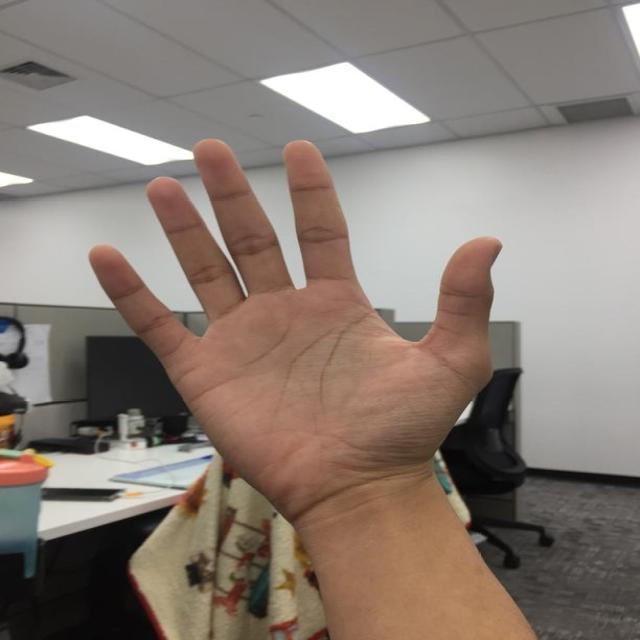hand: (82, 134, 506, 636)
